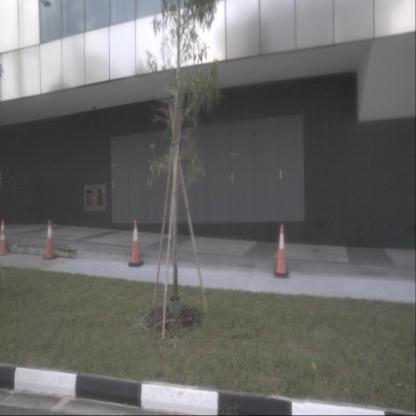movable_object-trafficcone: (128, 219, 144, 267), (274, 224, 288, 277), (42, 219, 58, 259), (0, 219, 12, 257)
